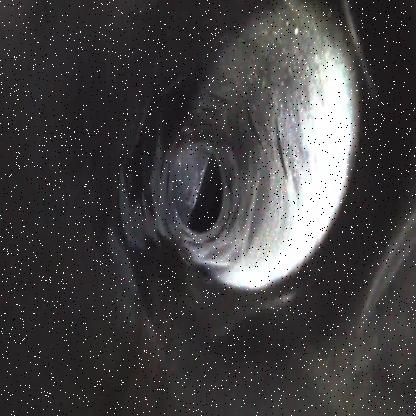Crack: (146, 2, 353, 293)
